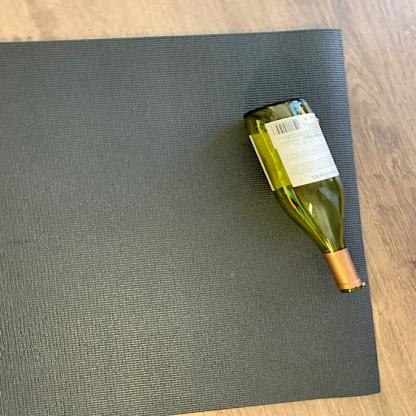trash: (242, 95, 368, 295)
